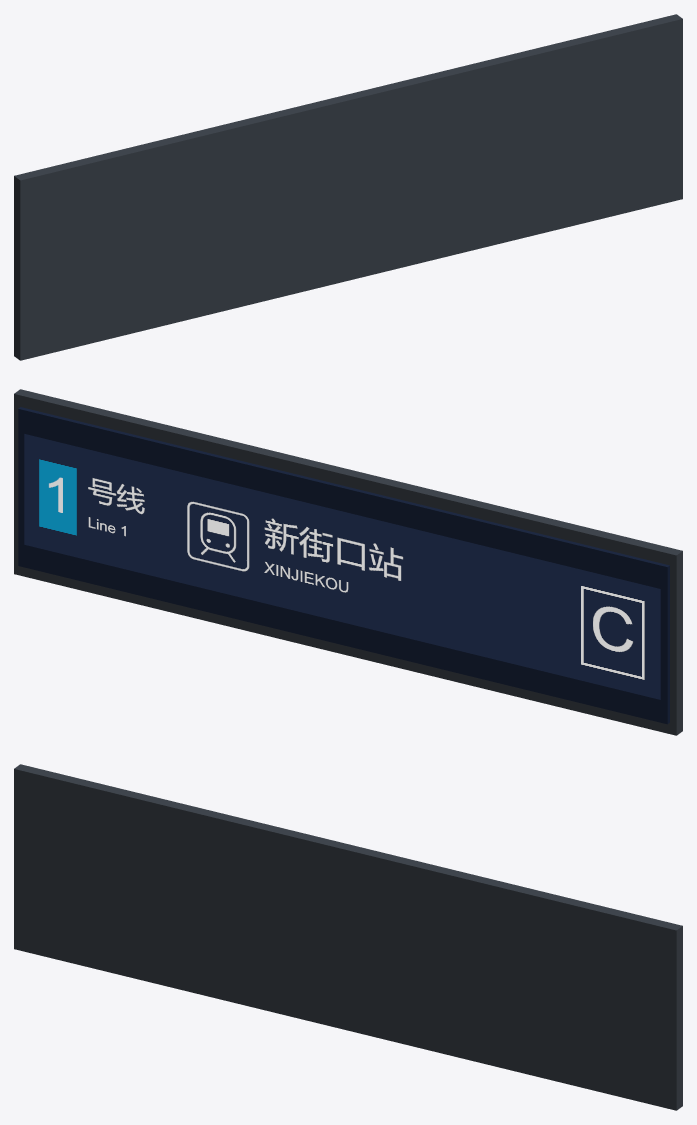
Rendered from city-doorway-nanjing.glb.
The picture shows the model from 3 angles, top to bottom: view 1: azimuth 30°, elevation 25°; view 2: azimuth 150°, elevation 25°; view 3: azimuth 330°, elevation 25°; orthographic projection.
Parts seen in each view (by area): view 1: CityDoorwayNanjing; view 2: exit-doorway-sign, CityDoorwayNanjing; view 3: CityDoorwayNanjing.
Boxes of the visible parts, x1=… form: CityDoorwayNanjing: x1=14, y1=14, x2=682, y2=360; exit-doorway-sign: x1=24, y1=434, x2=660, y2=699; CityDoorwayNanjing: x1=14, y1=389, x2=682, y2=735; CityDoorwayNanjing: x1=14, y1=764, x2=682, y2=1110.
Size of the model in its own units: 3 by 0.78 by 0.072.
Materials: 3 (1 with a texture image).
